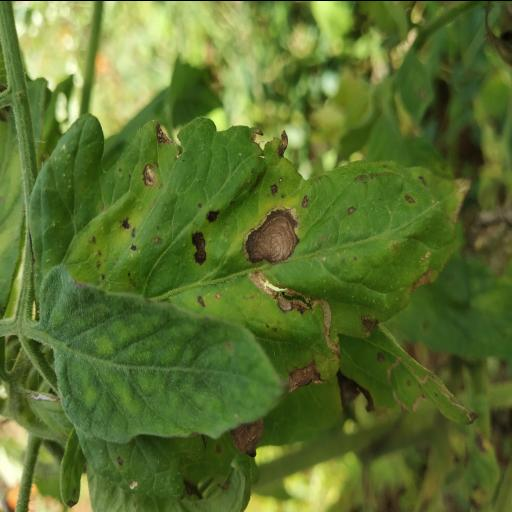Early Blight: (26, 112, 476, 444)
